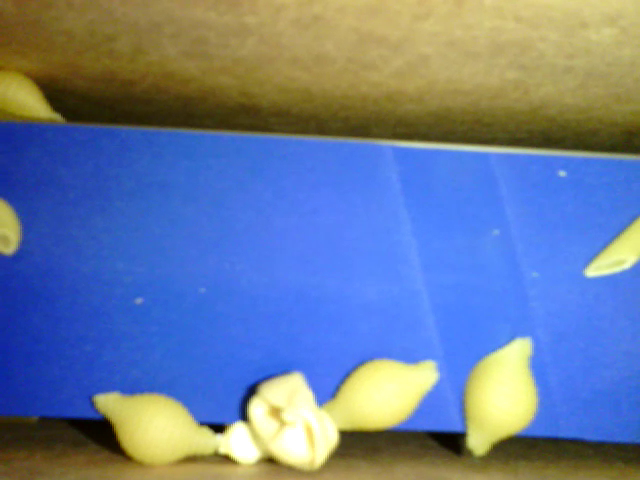elbow: (1, 196, 25, 258)
penne: (581, 212, 639, 279)
shell: (91, 388, 217, 470), (320, 353, 444, 431), (464, 335, 539, 460)
tortellini: (244, 365, 342, 472)
